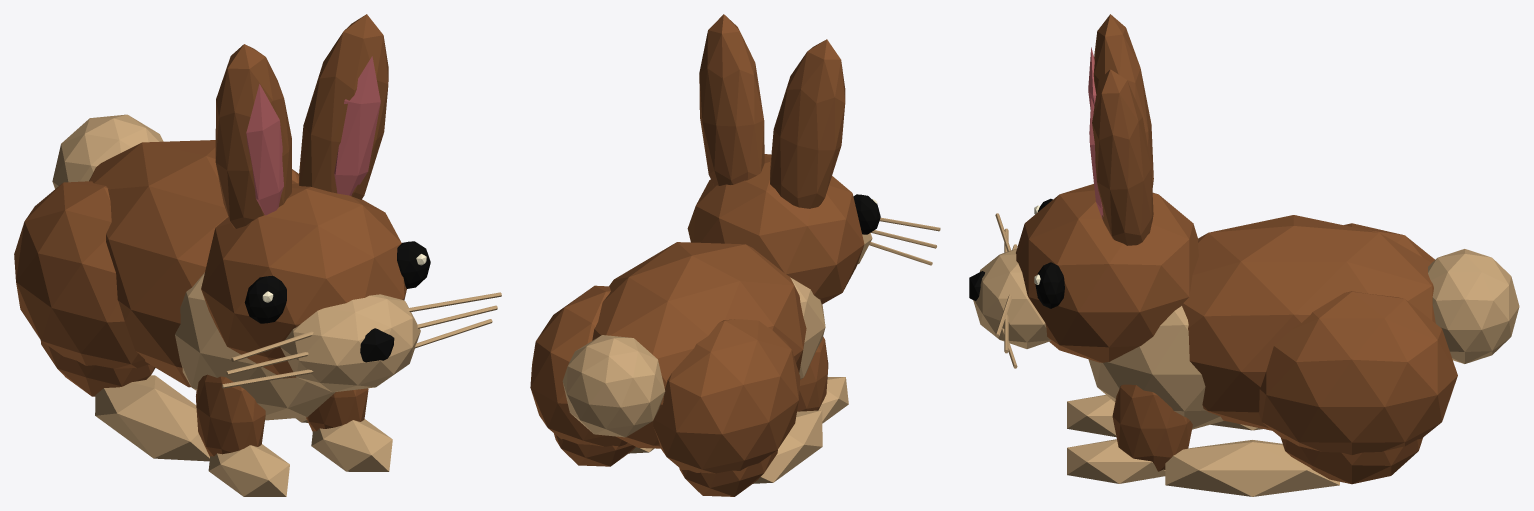
The model's file is Rabbit.glb.
3 views of the same model, side by side, from view 1: azimuth 30°, elevation 25°; view 2: azimuth 150°, elevation 25°; view 3: azimuth 270°, elevation 25° (orthographic). The views are drawn at different scales.
Visible parts, largest first — view 1: Rabbit_Head, Rabbit_Body, Rabbit_Haunch_R, Rabbit_Muzzle, Rabbit_Ear_L, Rabbit_Ear_R, Rabbit_Chest, Rabbit_HindFoot_R, Rabbit_FrontLeg_R, Rabbit_Tail, Rabbit_InnerEar_L, Rabbit_InnerEar_R (+8 smaller); view 2: Rabbit_Body, Rabbit_Haunch_R, Rabbit_Head, Rabbit_Ear_R, Rabbit_Ear_L, Rabbit_Tail, Rabbit_Haunch_L, Rabbit_HindFoot_R, Rabbit_HindLeg_R, Rabbit_Chest, Rabbit_FrontLeg_R, Rabbit_HindLeg_L (+3 smaller); view 3: Rabbit_Body, Rabbit_Haunch_L, Rabbit_Head, Rabbit_Ear_L, Rabbit_Tail, Rabbit_HindFoot_L, Rabbit_Chest, Rabbit_FrontLeg_L, Rabbit_Muzzle, Rabbit_HindLeg_L, Rabbit_Ear_R, Rabbit_FrontPaw_L (+4 smaller).
Boxes of the visible parts, left/top/right/bottom form: Rabbit_Head: left=201, top=183, right=406, bottom=378; Rabbit_Body: left=89, top=140, right=296, bottom=387; Rabbit_Haunch_R: left=14, top=181, right=149, bottom=368; Rabbit_Muzzle: left=280, top=294, right=420, bottom=392; Rabbit_Ear_L: left=299, top=14, right=388, bottom=199; Rabbit_Ear_R: left=215, top=44, right=291, bottom=228; Rabbit_Chest: left=175, top=272, right=335, bottom=420; Rabbit_HindFoot_R: left=95, top=375, right=209, bottom=461; Rabbit_FrontLeg_R: left=196, top=374, right=265, bottom=456; Rabbit_Tail: left=52, top=114, right=163, bottom=188; Rabbit_InnerEar_L: left=334, top=56, right=380, bottom=195; Rabbit_InnerEar_R: left=246, top=84, right=283, bottom=215; Rabbit_Body: left=592, top=242, right=806, bottom=448; Rabbit_Haunch_R: left=653, top=319, right=800, bottom=473; Rabbit_Head: left=687, top=154, right=864, bottom=304; Rabbit_Ear_R: left=770, top=39, right=845, bottom=208; Rabbit_Ear_L: left=699, top=14, right=764, bottom=185; Rabbit_Tail: left=562, top=335, right=665, bottom=437; Rabbit_Haunch_L: left=530, top=285, right=627, bottom=446; Rabbit_HindFoot_R: left=753, top=410, right=822, bottom=483; Rabbit_HindLeg_R: left=679, top=450, right=777, bottom=496; Rabbit_Chest: left=790, top=277, right=825, bottom=379; Rabbit_FrontLeg_R: left=797, top=336, right=828, bottom=411; Rabbit_HindLeg_L: left=554, top=433, right=635, bottom=466; Rabbit_Body: left=1182, top=215, right=1435, bottom=430; Rabbit_Haunch_L: left=1258, top=291, right=1457, bottom=454; Rabbit_Head: left=1016, top=184, right=1198, bottom=362; Rabbit_Ear_L: left=1092, top=69, right=1153, bottom=245; Rabbit_Tail: left=1428, top=249, right=1519, bottom=363; Rabbit_HindFoot_L: left=1165, top=440, right=1339, bottom=496; Rabbit_Chest: left=1088, top=306, right=1223, bottom=429; Rabbit_FrontLeg_L: left=1112, top=384, right=1192, bottom=471; Rabbit_Muzzle: left=973, top=248, right=1050, bottom=348; Rabbit_HindLeg_L: left=1281, top=438, right=1422, bottom=484; Rabbit_Ear_R: left=1093, top=14, right=1153, bottom=189; Rabbit_FrontPaw_L: left=1067, top=439, right=1165, bottom=483.
Size of the model in its own units: 0.8775 by 1.35 by 1.61.
